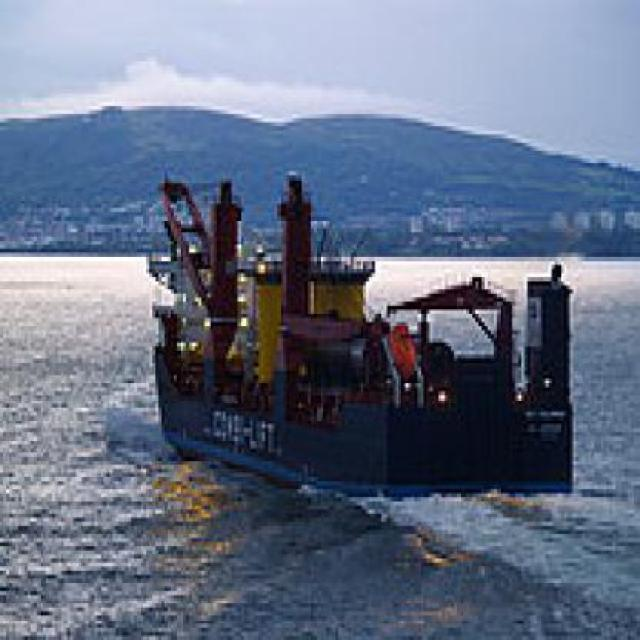container: (141, 161, 583, 507)
